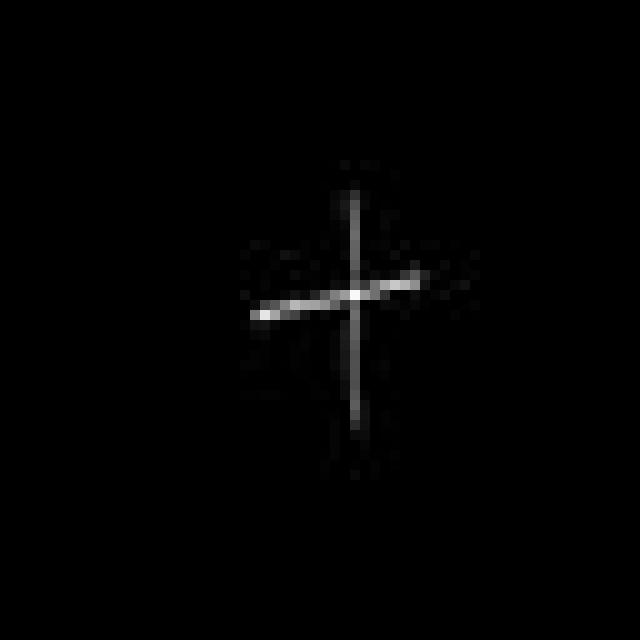10 -ten-: (245, 190, 433, 428)
